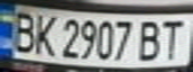0: (97, 17, 118, 61)
2: (57, 15, 81, 60)
7: (112, 17, 136, 62)
9: (78, 16, 100, 61)
B: (6, 7, 39, 54), (136, 17, 166, 62)
K: (30, 10, 57, 56)
T: (157, 16, 190, 61)
